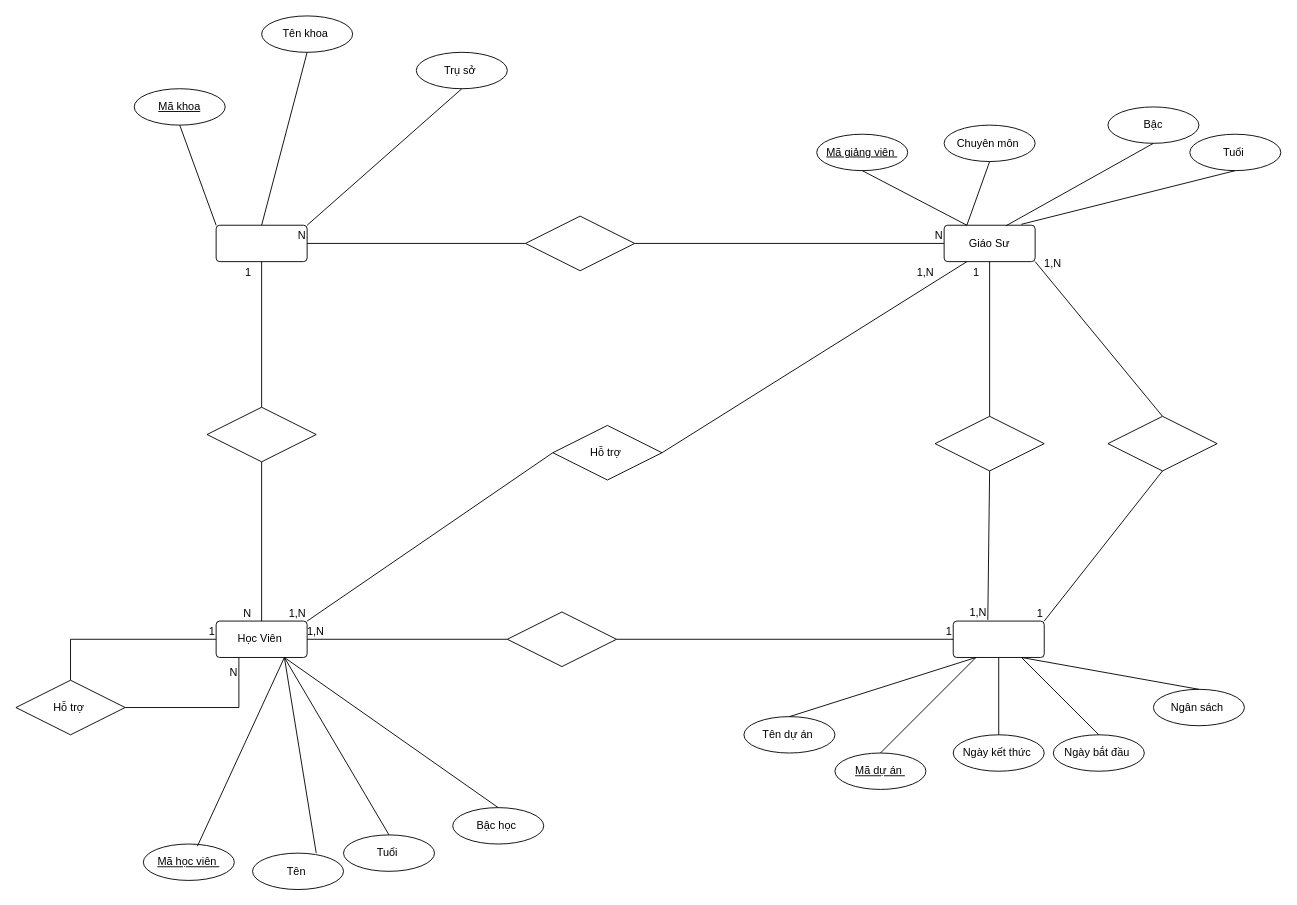
Some shapes in this 1297 by 905 pixel diagram are drawn without their labels. Each missing label, with the box of its shape:
Dự Án: (952, 620, 1044, 657)
Khoa: (215, 224, 307, 262)
Làm việc: (525, 215, 635, 271)
Làm việc bởi: (506, 611, 617, 667)
Quản lý: (934, 415, 1044, 471)
Thuộc: (206, 406, 316, 462)
Thực hiện bởi: (1107, 415, 1217, 471)
